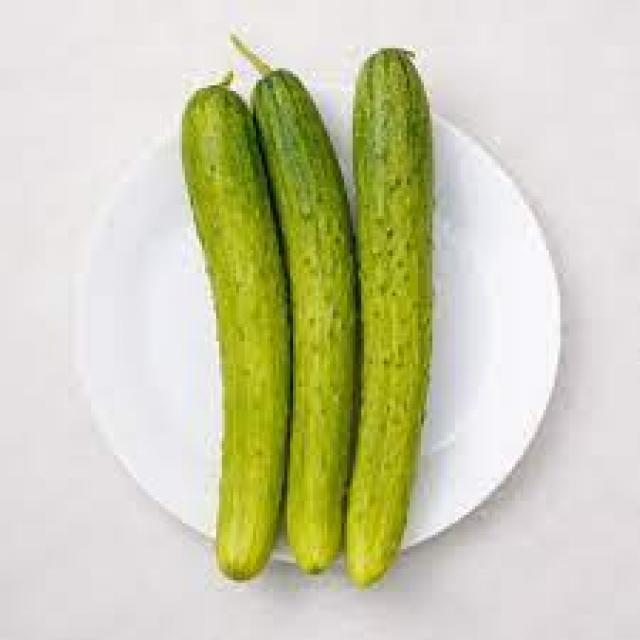cucumber: (243, 46, 356, 573), (182, 85, 290, 582), (347, 48, 435, 589)
